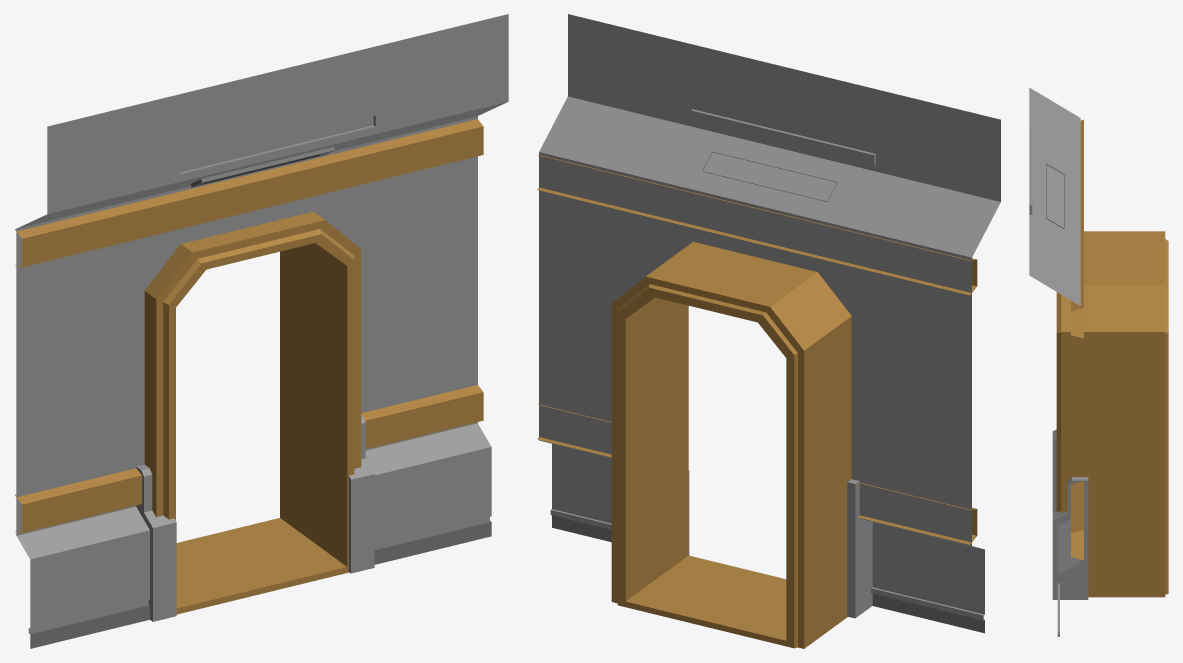
File: DoorSingle_Wall_SideA.fbx
3 renders of one model, left to right at view 1: azimuth 30°, elevation 25°; view 2: azimuth 150°, elevation 25°; view 3: azimuth 270°, elevation 25°, orthographic. The views are drawn at different scales.
Visible parts, largest first — view 1: DoorSingle_Wall_SideA; view 2: DoorSingle_Wall_SideA; view 3: DoorSingle_Wall_SideA.
Part boxes in pixels (<box>): DoorSingle_Wall_SideA: <box>14,14,508,648</box>; DoorSingle_Wall_SideA: <box>537,14,1000,648</box>; DoorSingle_Wall_SideA: <box>1029,87,1168,636</box>.
Size of the model in its own units: 400 by 444 by 125.
